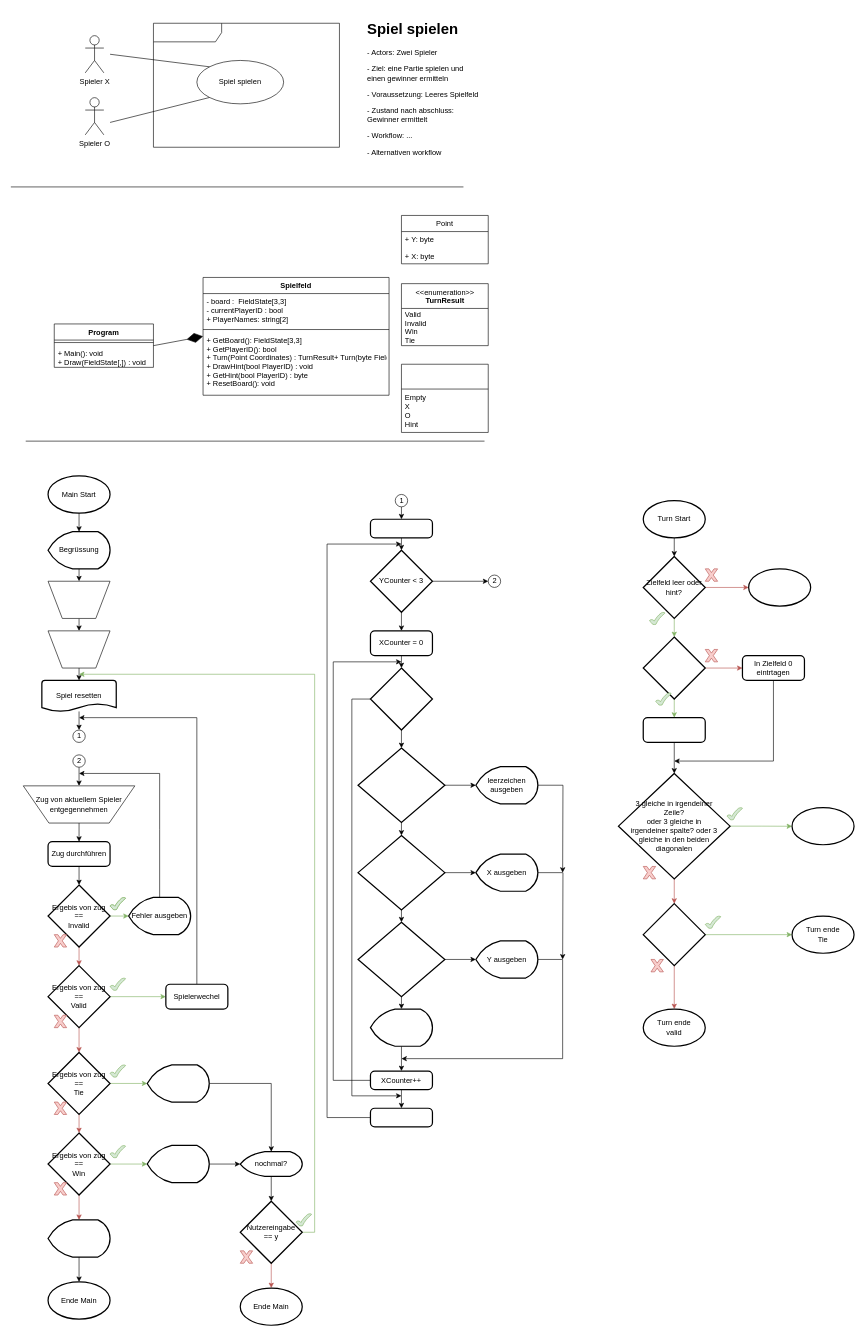
This 866x1336 diagram has some shape labels left out. The box of each missing label's shape, as (x1, y1, x2, y2) in pixels:
<<enumeration>> FieldState: (401, 364, 488, 432)
Aktueller spieler hat gewonnen: (146, 1145, 210, 1183)
Hinweis ausgeben: (370, 1008, 433, 1047)
In Zielfeld X eintrtagen: (642, 717, 706, 743)
Interner Fehler im Enum: (47, 1219, 110, 1257)
Spiele O Name eingeben: (47, 630, 110, 668)
Spiele X Name eingeben: (47, 581, 110, 618)
SpielerID == true: (642, 636, 706, 699)
TicTacToe: (153, 23, 339, 147)
Turn ende Invalid: (748, 568, 811, 606)
Turn ende Win: (791, 807, 854, 845)
Unentschieden: (146, 1064, 210, 1102)
wenn Spielfeld [YCounter,Xcounter] == Leer: (357, 747, 445, 823)
wenn Spielfeld [YCounter,Xcounter] == X: (357, 835, 445, 910)
wenn Spielfeld [YCounter,Xcounter] == Y: (357, 921, 445, 997)
XCounter < 3: (370, 667, 433, 730)
YCounter = 0: (370, 518, 433, 538)
YCounter++: (370, 1107, 433, 1127)
Zug nummer 9?: (642, 903, 706, 966)
